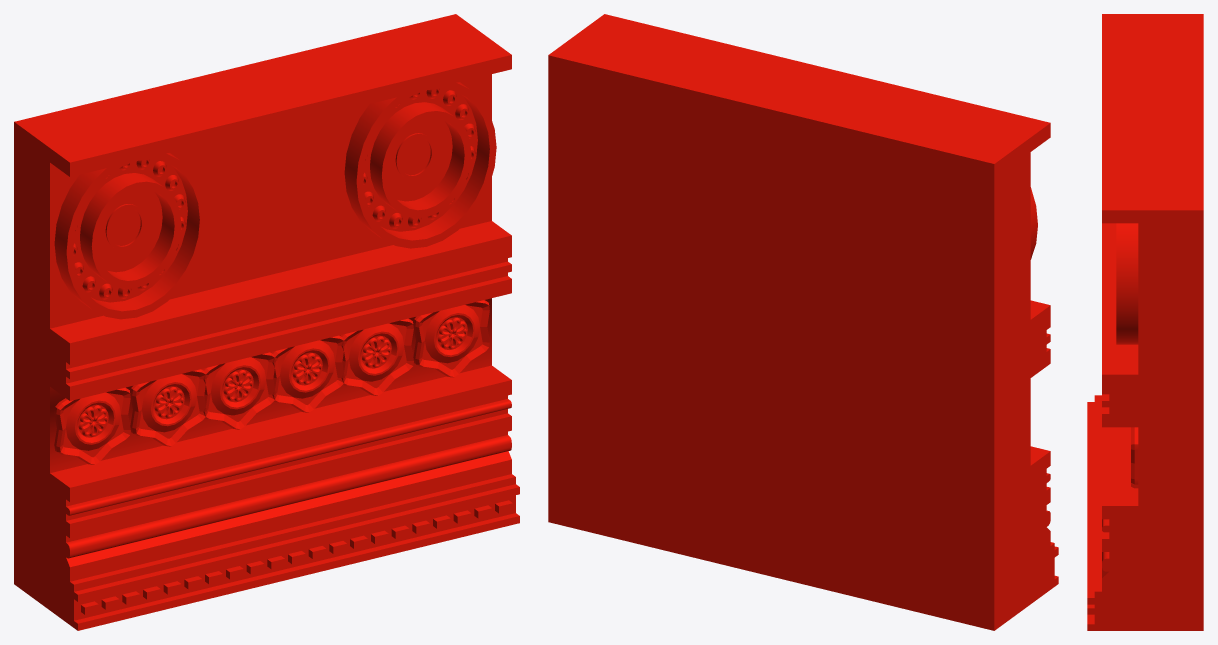
The model's file is murbas2lampe.FBX.
The picture shows the model from 3 angles, left to right: view 1: azimuth 30°, elevation 25°; view 2: azimuth 150°, elevation 25°; view 3: azimuth 270°, elevation 25°; orthographic projection. The views are drawn at different scales.
Parts seen in each view (by area): view 1: Box013; view 2: Box013; view 3: Box013.
Part boxes in pixels (x1=…): Box013: x1=14, y1=14, x2=519, y2=630; Box013: x1=548, y1=14, x2=1058, y2=630; Box013: x1=1087, y1=14, x2=1203, y2=630.
Bounding box in the file's own units: 256 × 256 × 64.
